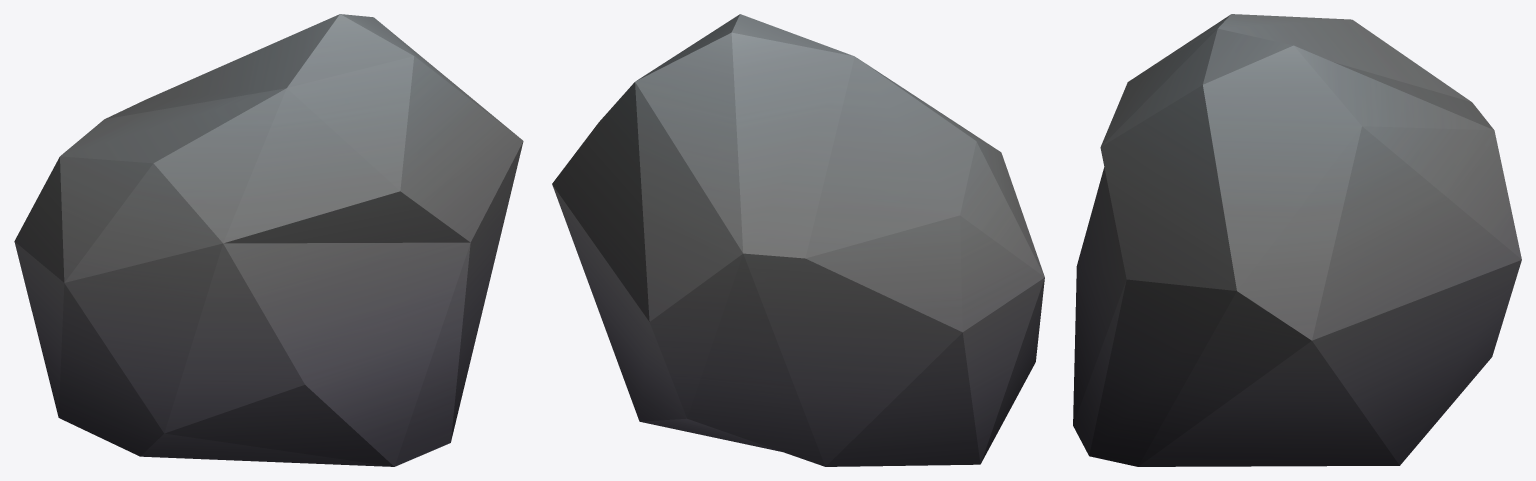
Rendered from Gradient_Boulder_01.glb.
3 renders of one model, left to right at view 1: azimuth 30°, elevation 25°; view 2: azimuth 150°, elevation 25°; view 3: azimuth 270°, elevation 25°, orthographic. The views are drawn at different scales.
Visible parts, largest first — view 1: Boulder 01 g; view 2: Boulder 01 g; view 3: Boulder 01 g.
Boxes of the visible parts, box(x1,y1,x2,y2) form: Boulder 01 g: box(14, 14, 523, 466); Boulder 01 g: box(552, 14, 1044, 466); Boulder 01 g: box(1073, 14, 1521, 466).
Size of the model in its own units: 14.1 by 10.71 by 10.76.
Materials: 1 (1 with a texture image).
